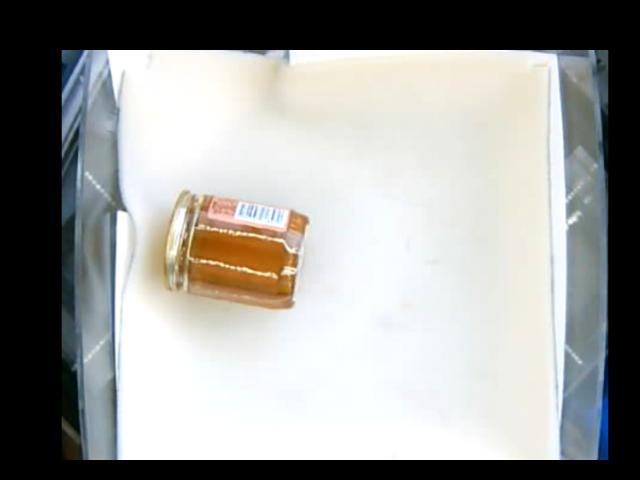Bottle: (159, 190, 305, 308)
